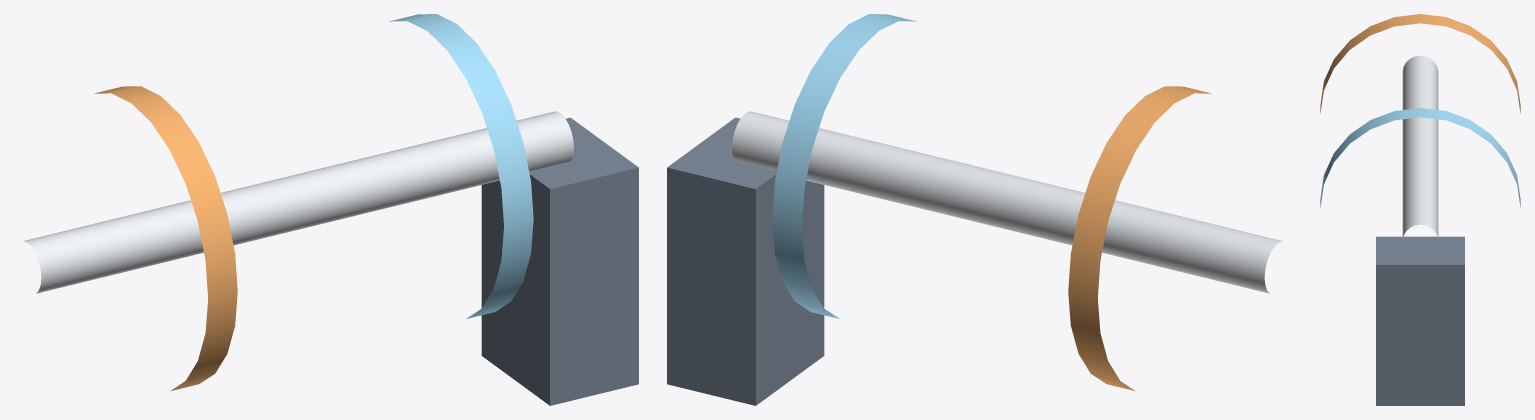
The model's file is balancing_rotating_masses.glb.
The picture shows the model from 3 angles, left to right: view 1: azimuth 30°, elevation 25°; view 2: azimuth 150°, elevation 25°; view 3: azimuth 270°, elevation 25°; orthographic projection. The views are drawn at different scales.
Parts seen in each view (by area): view 1: VibrationSensorPedestalStand, BalancingMachineDriveShaft, RotatingMassPlaneDisc2, RotatingMassPlaneDisc1; view 2: VibrationSensorPedestalStand, BalancingMachineDriveShaft, RotatingMassPlaneDisc2, RotatingMassPlaneDisc1; view 3: VibrationSensorPedestalStand, BalancingMachineDriveShaft, RotatingMassPlaneDisc2, RotatingMassPlaneDisc1.
Part boxes in pixels (x1,y1,x2,y2): VibrationSensorPedestalStand: [481, 117, 638, 405]; BalancingMachineDriveShaft: [23, 111, 573, 293]; RotatingMassPlaneDisc2: [389, 14, 533, 318]; RotatingMassPlaneDisc1: [94, 86, 237, 391]; VibrationSensorPedestalStand: [667, 117, 824, 405]; BalancingMachineDriveShaft: [732, 111, 1282, 293]; RotatingMassPlaneDisc2: [772, 14, 916, 318]; RotatingMassPlaneDisc1: [1068, 86, 1211, 391]; VibrationSensorPedestalStand: [1376, 236, 1464, 405]; BalancingMachineDriveShaft: [1402, 55, 1438, 239]; RotatingMassPlaneDisc2: [1320, 108, 1520, 207]; RotatingMassPlaneDisc1: [1320, 14, 1520, 113].
Bounding box in the file's own units: 1.95 × 1.2 × 0.9.
